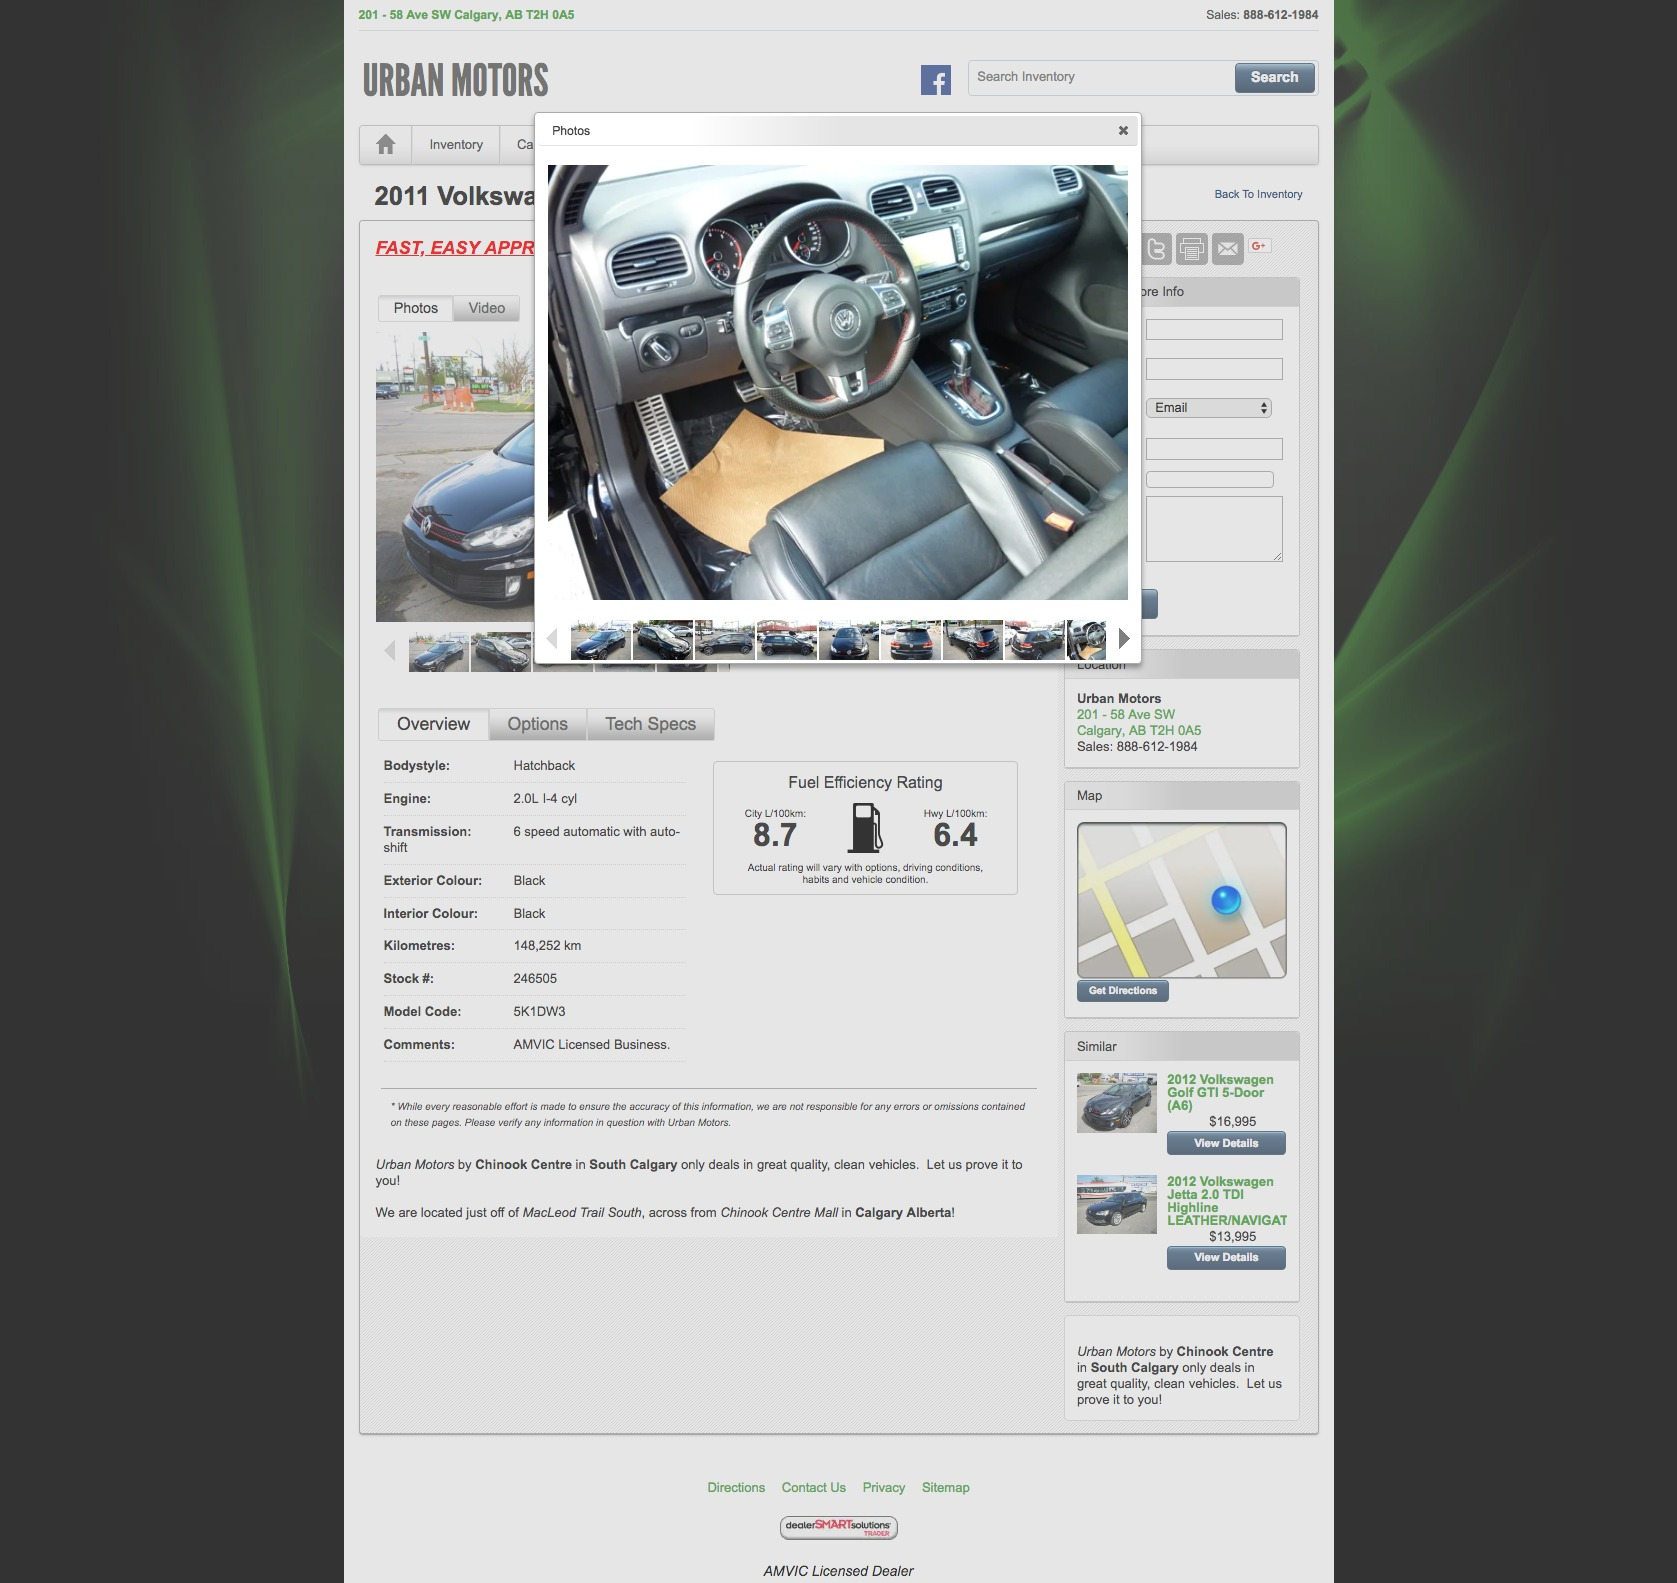car: (1119, 628, 1131, 650)
